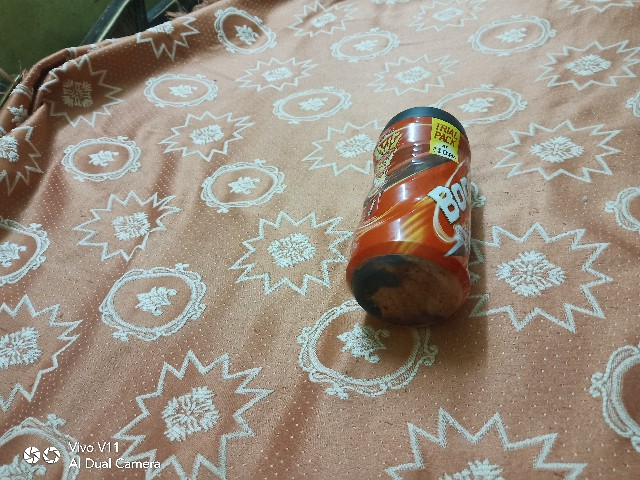boost small: (338, 81, 478, 340)
